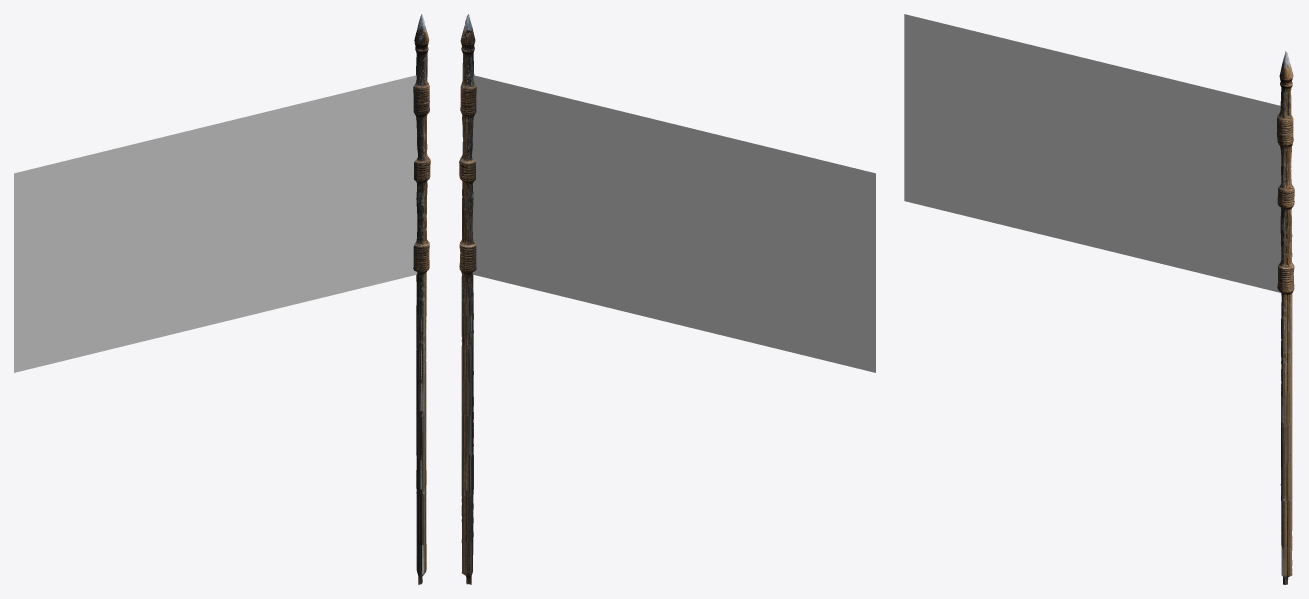
Rendered from Flag.fbx.
3 views of the same model, side by side, from view 1: azimuth 30°, elevation 25°; view 2: azimuth 150°, elevation 25°; view 3: azimuth 330°, elevation 25° (orthographic). The views are drawn at different scales.
Parts seen in each view (by area): view 1: Plane, Flag_Body_Low; view 2: Plane, Flag_Body_Low; view 3: Plane, Flag_Body_Low.
Part boxes in pixels (left/top/right/bottom): Plane: left=14, top=75, right=417, bottom=372; Flag_Body_Low: left=413, top=14, right=430, bottom=584; Plane: left=472, top=75, right=875, bottom=372; Flag_Body_Low: left=459, top=14, right=476, bottom=584; Plane: left=904, top=14, right=1281, bottom=292; Flag_Body_Low: left=1276, top=51, right=1294, bottom=584.
Size of the model in its own units: 152 by 200 by 6.
1 material, 1 textured.
